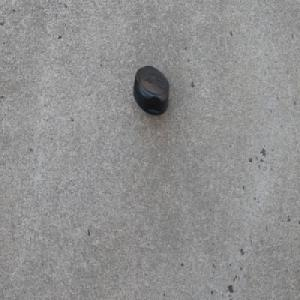FuelCap: (132, 64, 170, 119)
